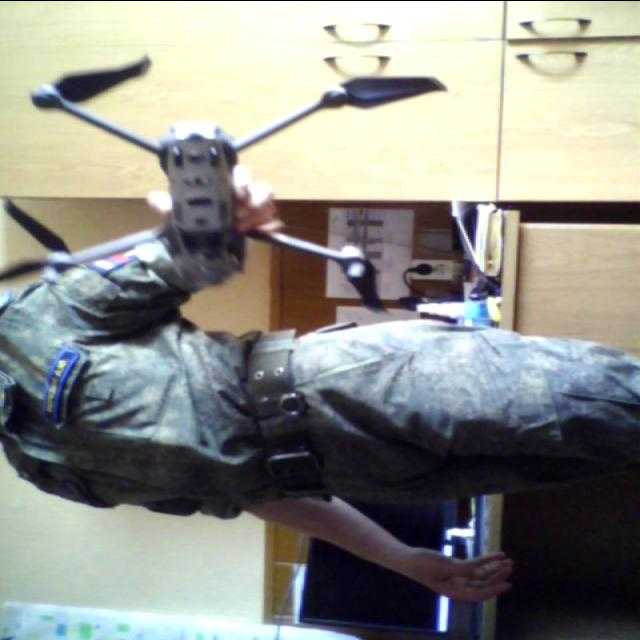drone: (42, 52, 366, 300)
